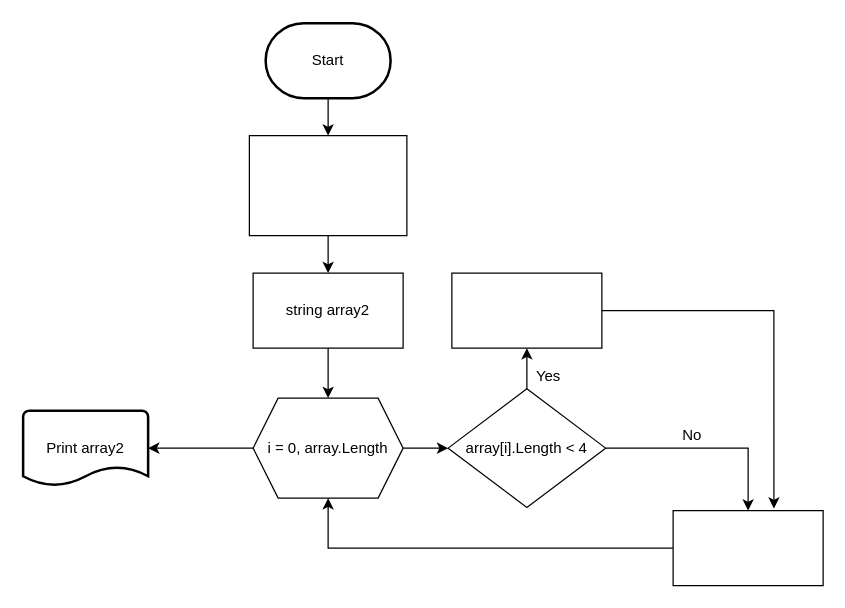
Some shapes in this 845 by 608 pixel diagram are drawn without their labels. The shapes that lost their labels are listed below. From the top down, each one's centre as x and y in pixels, then its label:
point 327,185: string array = "cat", "dog", "zebra", "elefant", "fox", ":)", "A"
point 526,310: copy to array2
point 747,547: i = i + 1
